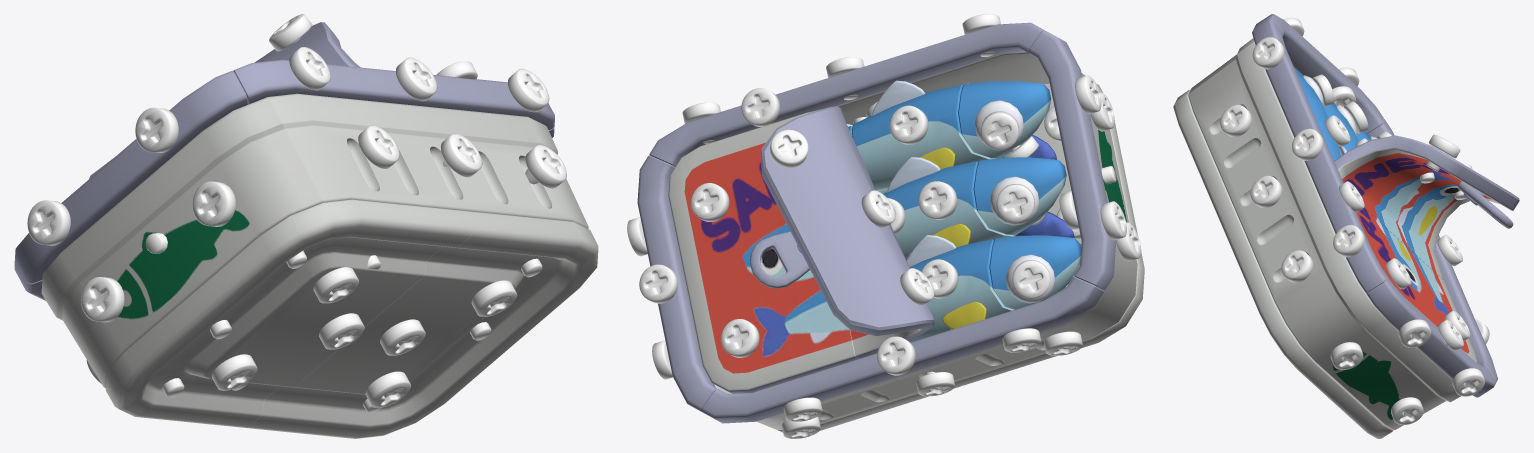
The model's file is Sardine_GroupD.fbx.
3 renders of one model, left to right at view 1: azimuth 30°, elevation 25°; view 2: azimuth 150°, elevation 25°; view 3: azimuth 270°, elevation 25°, orthographic. The views are drawn at different scales.
Parts seen in each view (by area): view 1: Sardine.034, Sardine.030, Sardine.031, Sardine.033, Screw (×16), Sardine.037, Sardine.036, Sardine.001, Screw (2), Sardine.028; view 2: Screw (×29), Sardine.002, Sardine.001, Sardine.029, Sardine.036, Sardine.037, Sardine.035, Sardine.020, Sardine.028, Sardine.023, Sardine.027, Sardine.022 (+7 smaller); view 3: Sardine.033, Screw (×20), Sardine.001, Sardine.032, Sardine.036, Sardine.030, Sardine.002, Sardine.035, Sardine.037, Sardine.034, Sardine.029, Sardine.020 (+2 smaller).
Boxes of the visible parts, bbox=[...] form: Sardine.034: bbox=[105, 199, 472, 427]; Sardine.030: bbox=[245, 210, 598, 438]; Sardine.031: bbox=[42, 97, 322, 379]; Sardine.033: bbox=[268, 93, 588, 228]; Screw (×16): bbox=[27, 14, 566, 407]; Sardine.037: bbox=[15, 71, 248, 283]; Sardine.036: bbox=[233, 59, 554, 129]; Sardine.001: bbox=[89, 22, 360, 178]; Screw (2): bbox=[380, 319, 425, 355]; Sardine.028: bbox=[41, 283, 106, 388]; Screw (×29): bbox=[627, 14, 1141, 438]; Sardine.002: bbox=[668, 112, 860, 393]; Sardine.001: bbox=[750, 106, 934, 358]; Sardine.029: bbox=[701, 276, 1103, 423]; Sardine.036: bbox=[649, 22, 1044, 166]; Sardine.037: bbox=[1028, 30, 1115, 290]; Sardine.035: bbox=[637, 155, 717, 411]; Sardine.020: bbox=[852, 80, 994, 190]; Sardine.028: bbox=[757, 293, 1126, 429]; Sardine.023: bbox=[883, 157, 1013, 259]; Sardine.027: bbox=[906, 235, 1013, 342]; Sardine.022: bbox=[973, 157, 1066, 235]; Sardine.033: bbox=[1188, 42, 1364, 334]; Screw (×20): bbox=[1220, 37, 1485, 424]; Sardine.001: bbox=[1334, 135, 1519, 279]; Sardine.032: bbox=[1293, 291, 1460, 429]; Sardine.036: bbox=[1252, 17, 1386, 292]; Sardine.030: bbox=[1218, 207, 1393, 438]; Sardine.002: bbox=[1356, 208, 1477, 362]; Sardine.035: bbox=[1366, 276, 1496, 397]; Sardine.037: bbox=[1254, 14, 1383, 133]; Sardine.034: bbox=[1173, 90, 1233, 218]; Sardine.029: bbox=[1368, 118, 1497, 381]; Sardine.020: bbox=[1306, 96, 1341, 160].
Bounding box in the file's own units: 9.77 × 8.26 × 7.62.
3 materials, 2 textured.
